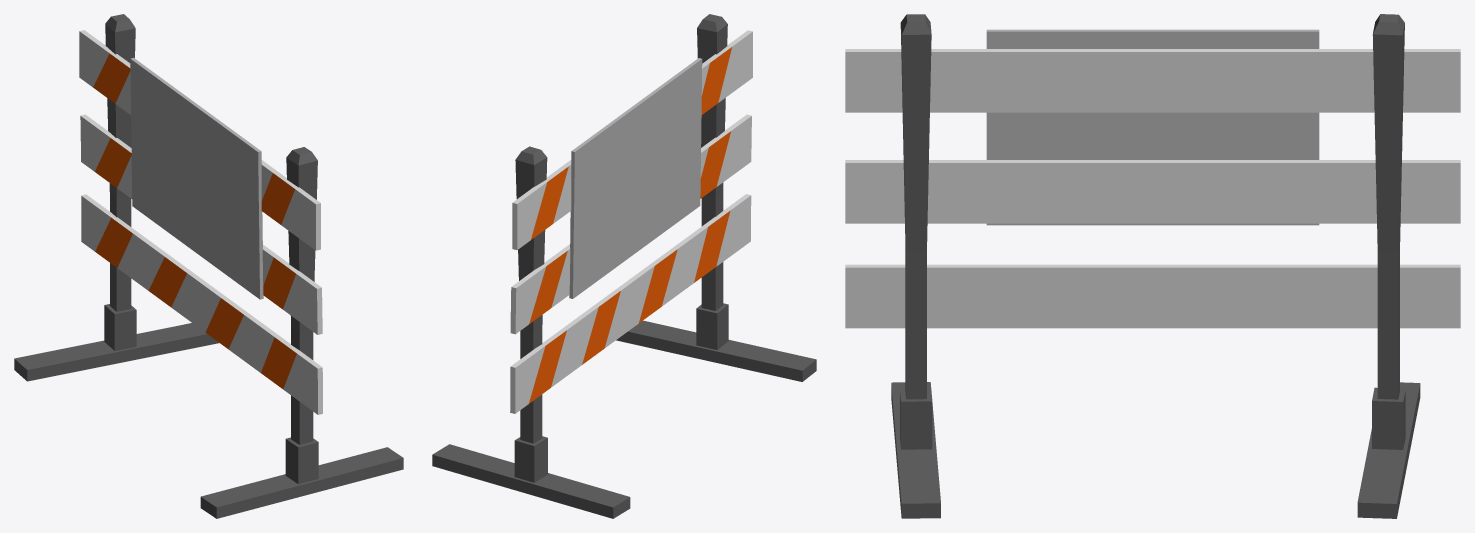
The model's file is barriere_police.glb.
3 views of the same model, side by side, from view 1: azimuth 30°, elevation 25°; view 2: azimuth 150°, elevation 25°; view 3: azimuth 270°, elevation 25° (orthographic). The views are drawn at different scales.
Parts seen in each view (by area): view 1: Road Closed-01_7; view 2: Road Closed-01_7; view 3: Road Closed-01_7.
Part boxes in pixels (box(x1,y1,x2,y2)): Road Closed-01_7: box(14, 14, 403, 518); Road Closed-01_7: box(432, 14, 816, 518); Road Closed-01_7: box(845, 14, 1460, 518).
Size of the model in its own units: 0.8508 by 1.43 by 1.81.
Materials: 1 (1 with a texture image).
